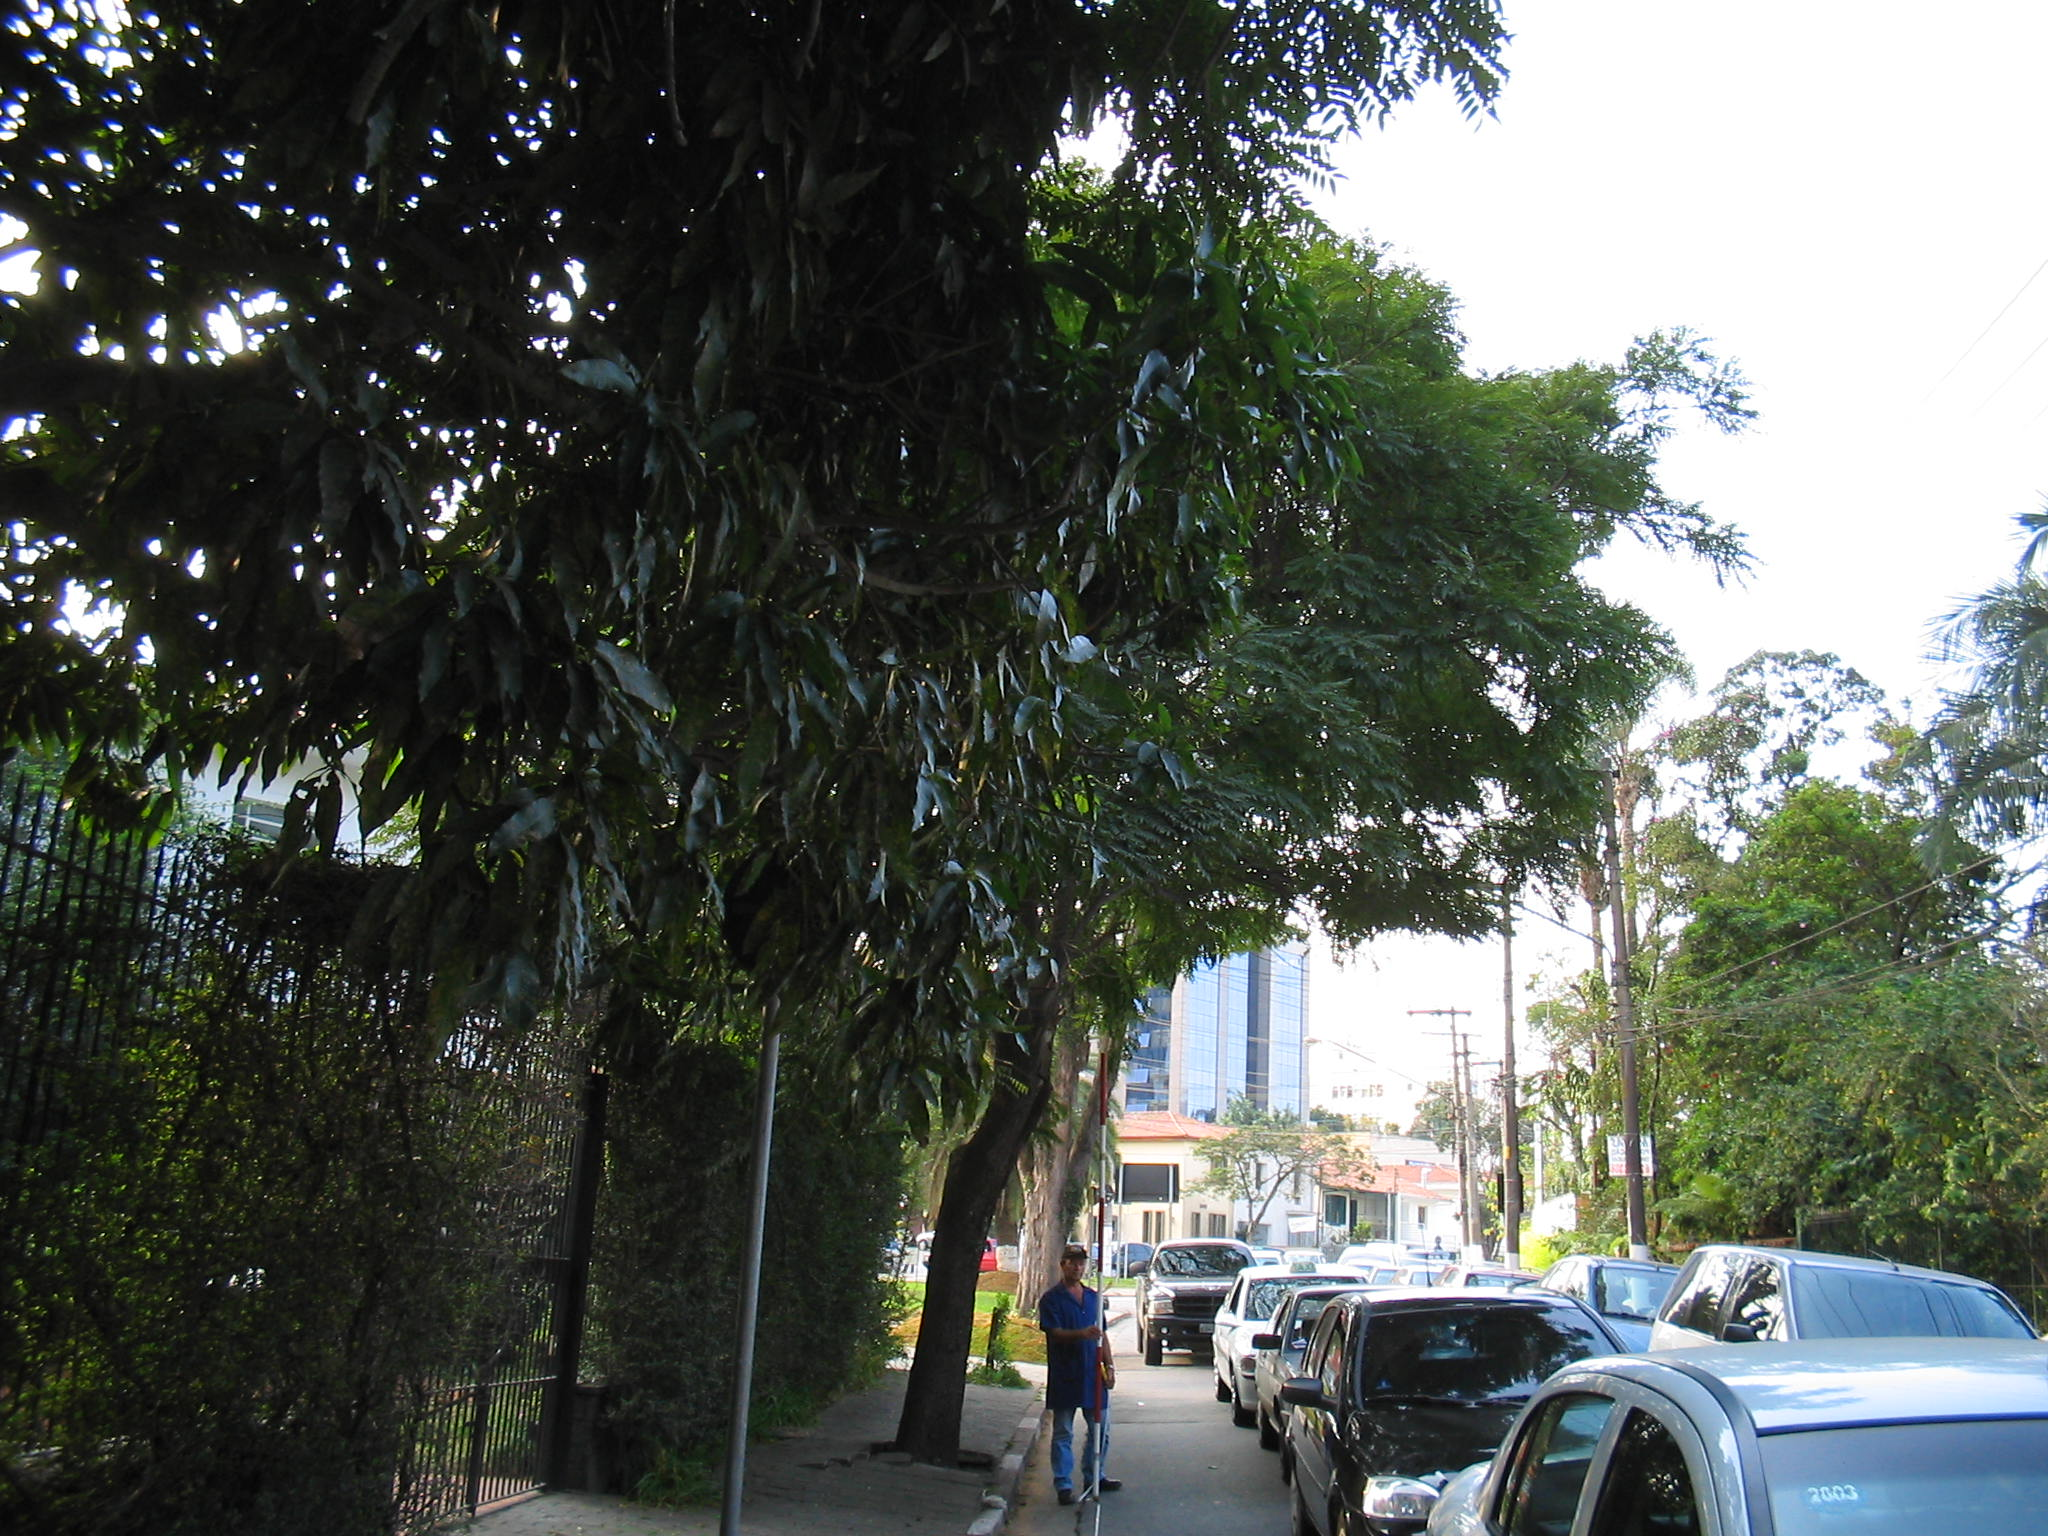crown: (792, 161, 1759, 1104)
stem: (889, 1112, 1040, 1459)
stick: (1080, 1049, 1121, 1496)
tree: (782, 157, 1763, 1462)
